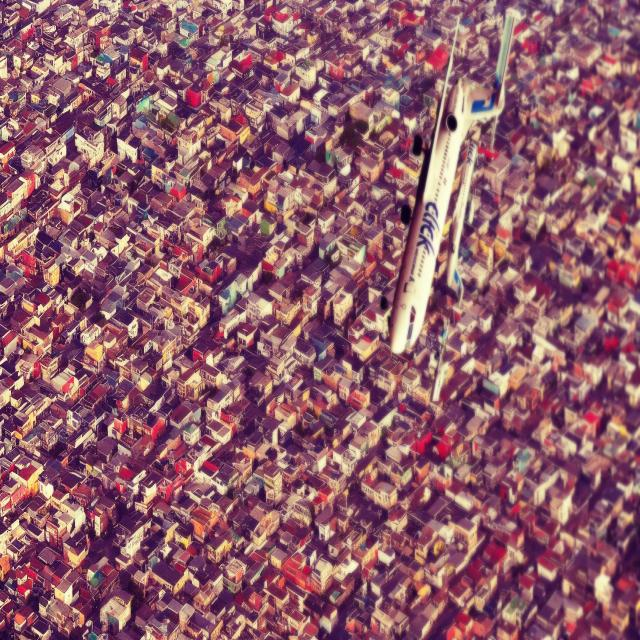airplane: (386, 11, 516, 356)
